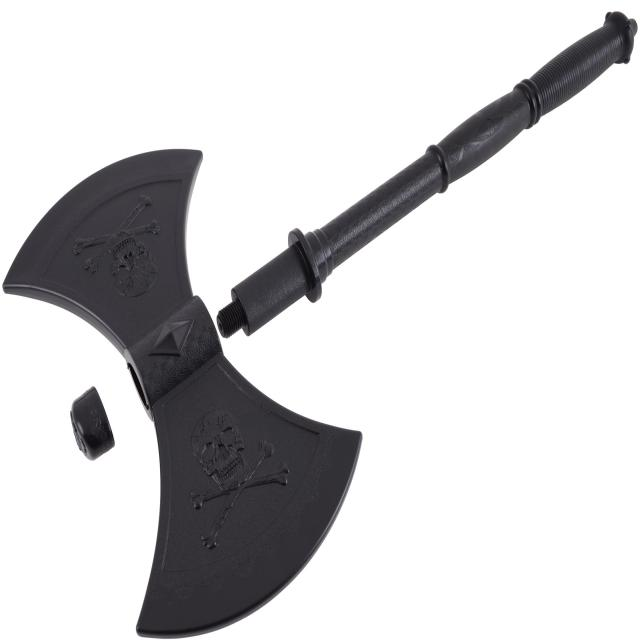Gun: (19, 9, 640, 639)
